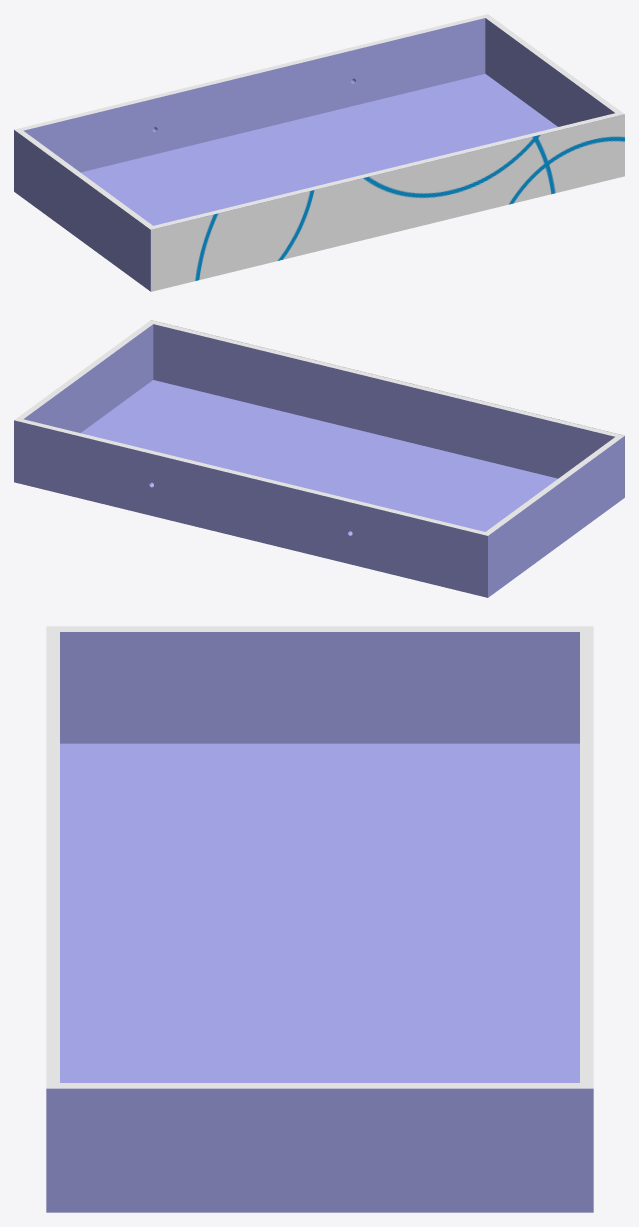
Rendered from tray tes2.glb.
3 views of the same model, one above another, from view 1: azimuth 30°, elevation 25°; view 2: azimuth 150°, elevation 25°; view 3: azimuth 270°, elevation 25° (orthographic). The views are drawn at different scales.
Visible parts, largest first — view 1: Cube, Untitled-2; view 2: Cube; view 3: Cube.
Boxes of the visible parts, x1,y1,x2,y2 form: Cube: (14,14,624,291); Untitled-2: (151,114,624,291); Cube: (14,320,624,597); Cube: (46,626,593,1212).
Size of the model in its own units: 4 by 0.5 by 2.
Materials: 3 (1 with a texture image).
